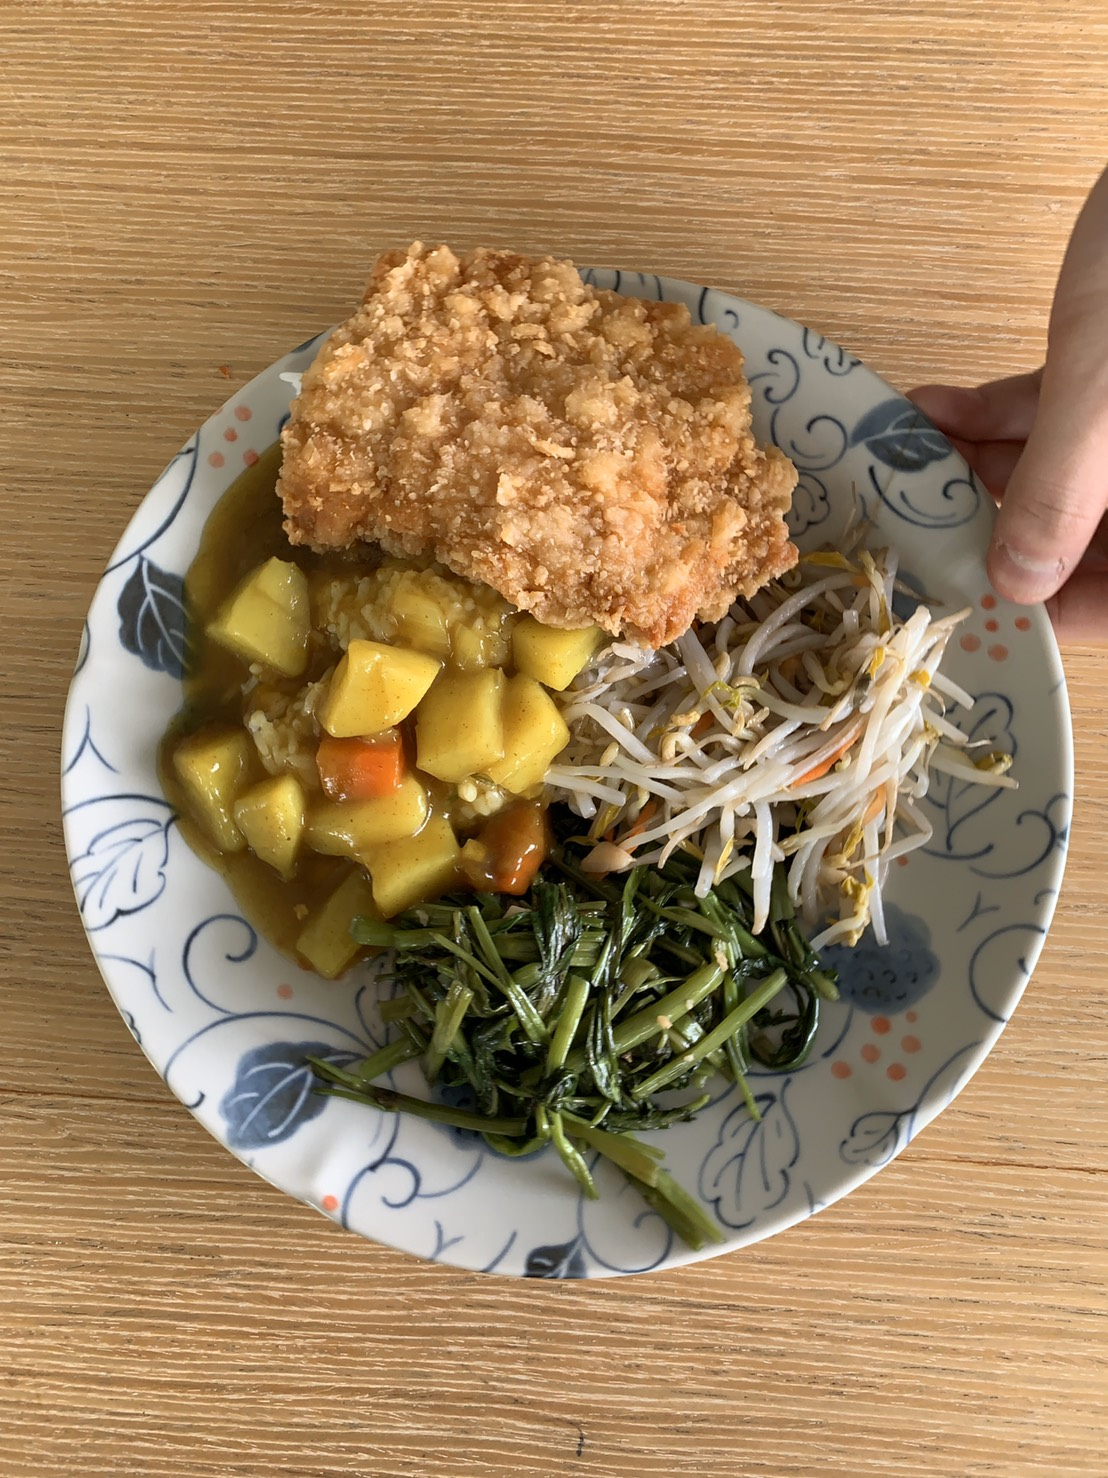curry: (169, 587, 559, 961)
fried_chicken: (346, 282, 743, 594)
mung_bean_sprouts: (627, 614, 950, 867)
water_spinach: (421, 872, 798, 1147)
